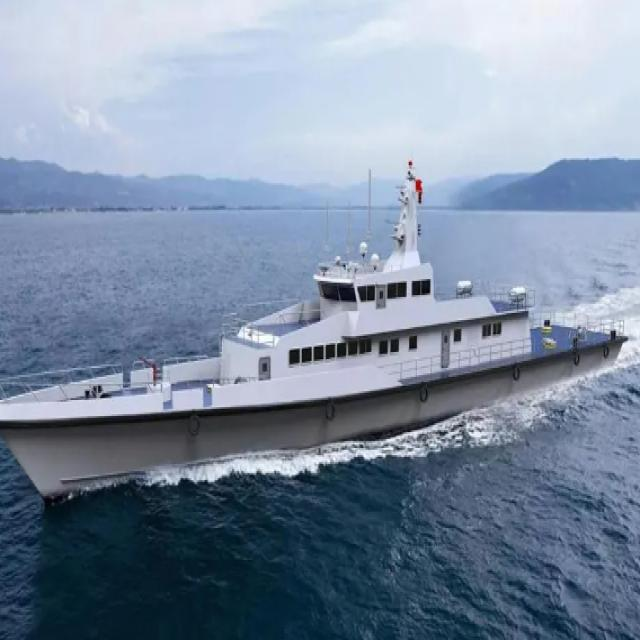houseboat: (0, 140, 620, 470)
